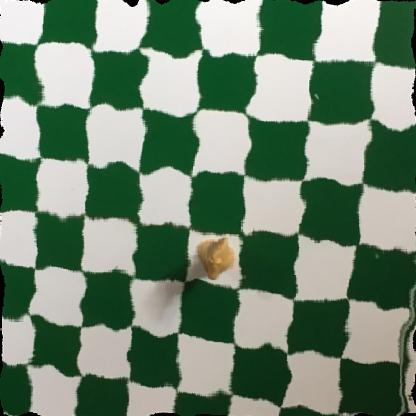white-knight: (193, 232, 239, 284)
